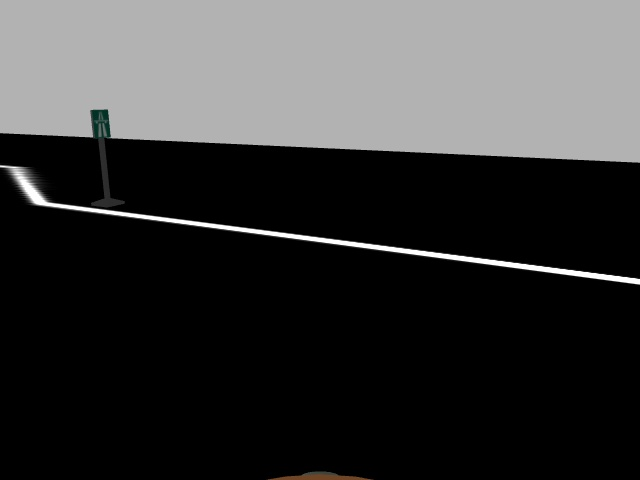enter_highway: (87, 108, 112, 140)
